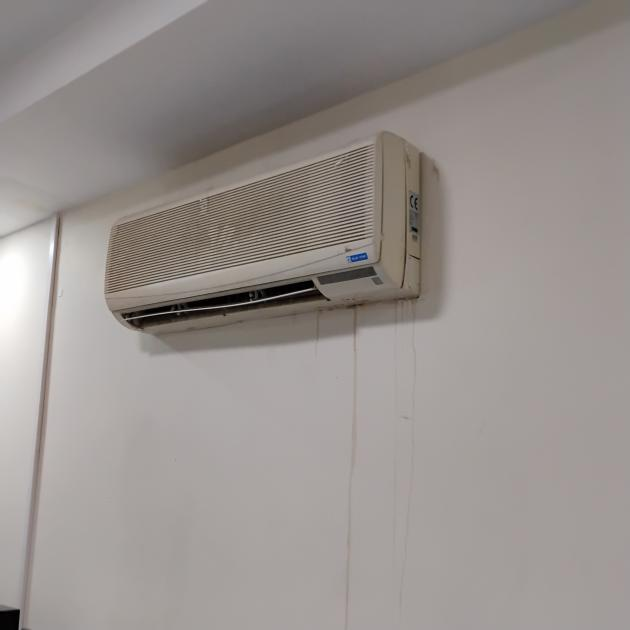air conditioner: (96, 156, 485, 333)
